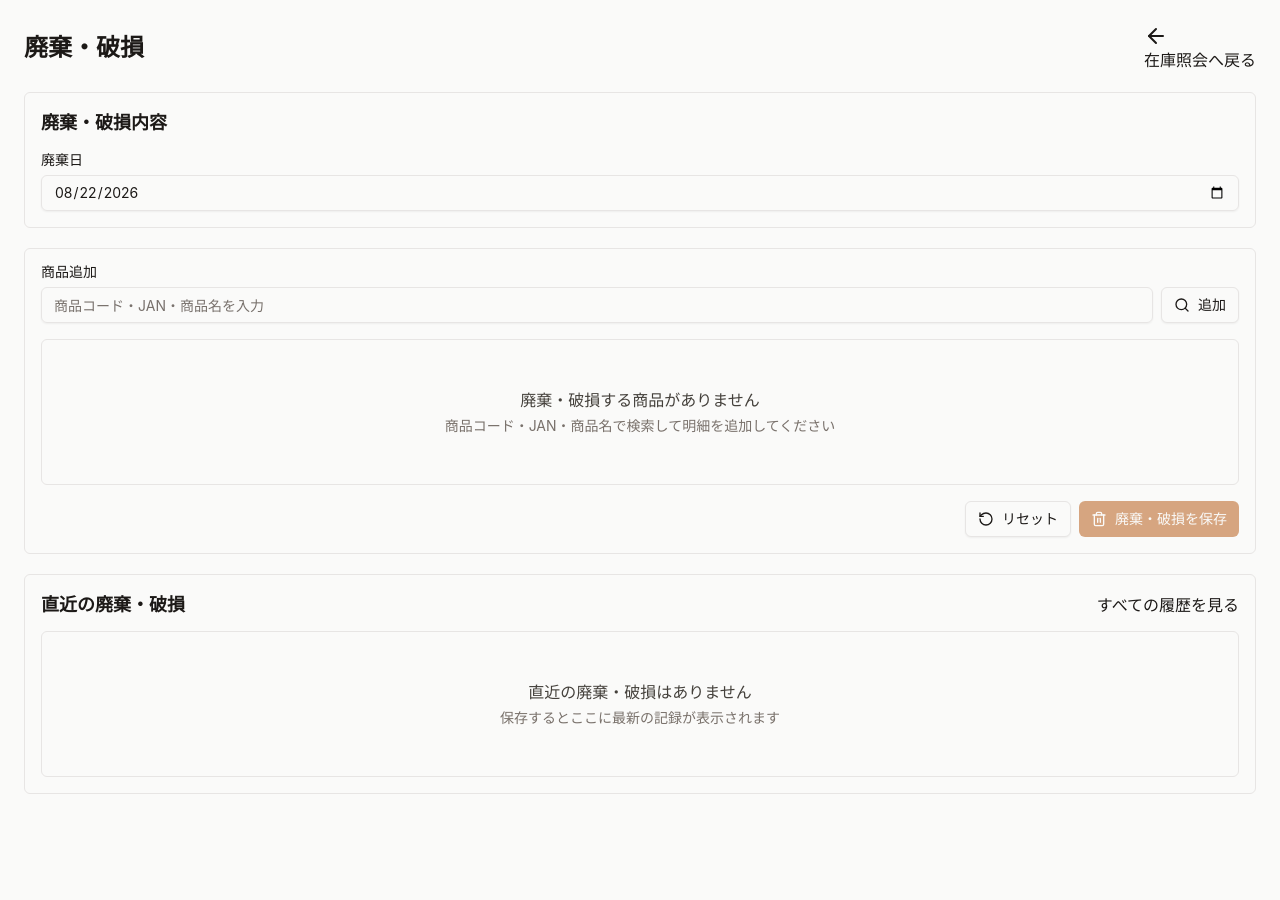
it: DisposalPage ProductAddSuggest (UI-05-D15/D16) › W8: activeなしEnterは既存commit検索を実行する
Type "DP-E1" into the dropdown named "廃棄・破損商品検索" at (597, 305), box [41,287,1153,323]
Then press Enter
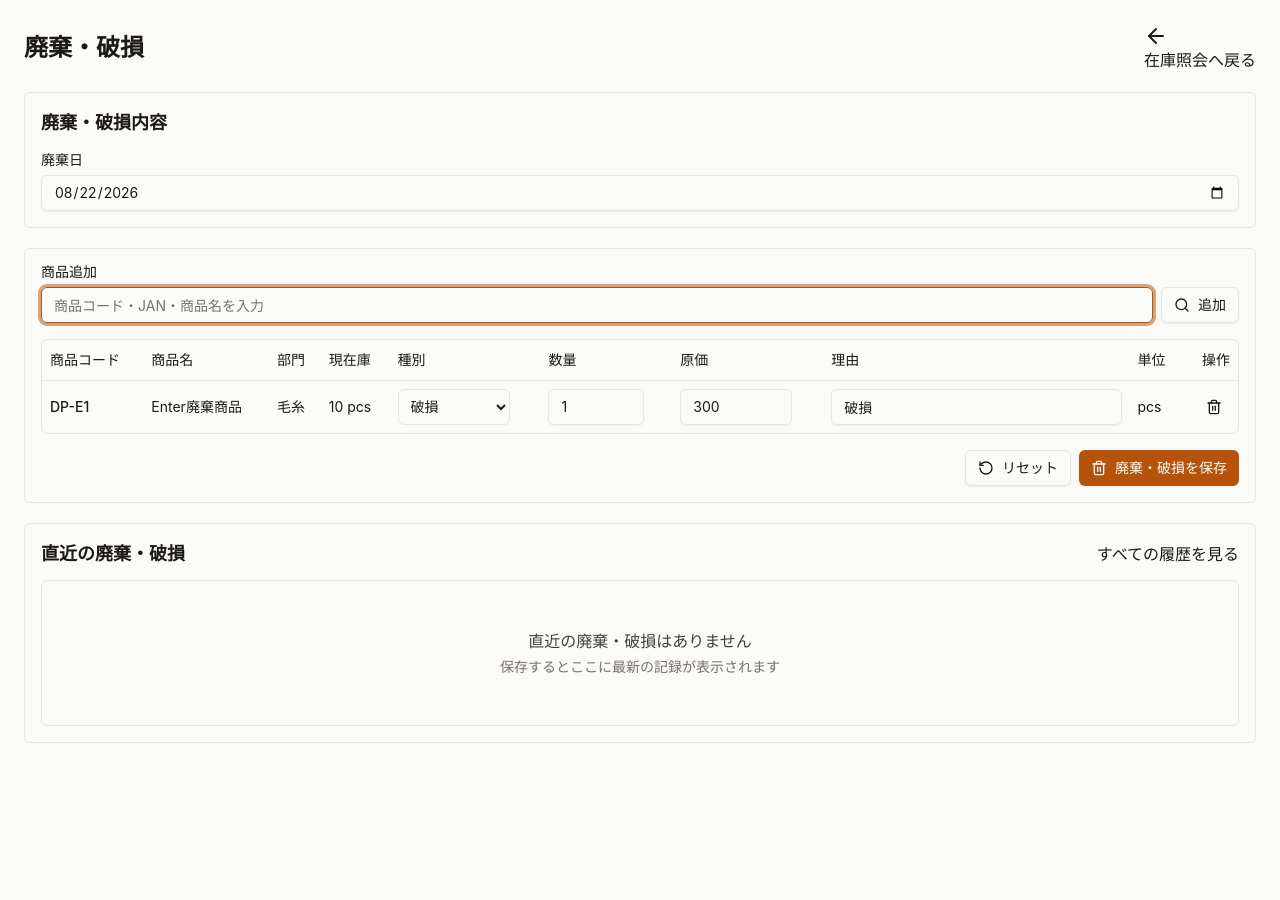
expect the text "Enter廃棄商品" is shown: met, box [143,380,269,432]
